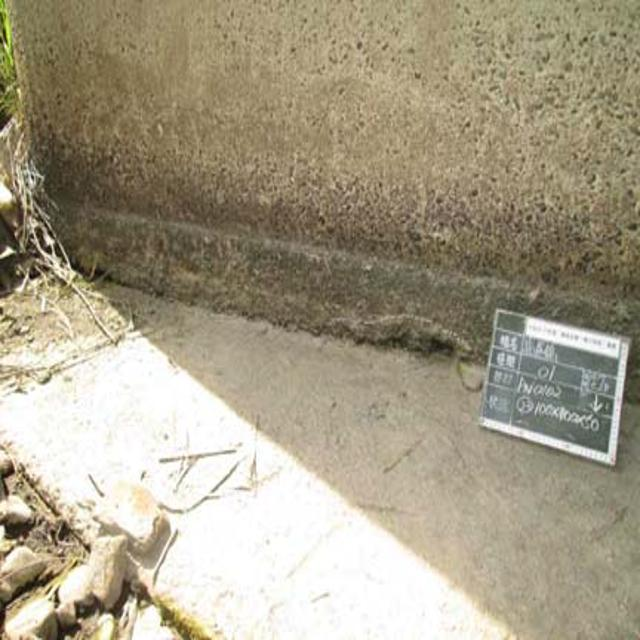spalling: (330, 292, 501, 432)
